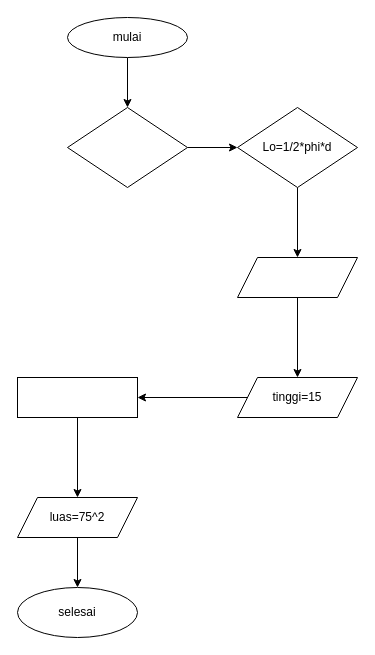
This 375x655 diagram has some shape labels left out. The shapes that lost their labels are listed below. From the top down, each one's centre as x and y in pixels, then its label:
At (127,147): "Lo phi d".
At (297,277): "alas=10".
At (77,397): "Lo=1/2*10*15".
